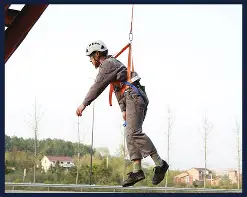safety belt: (100, 48, 142, 102)
